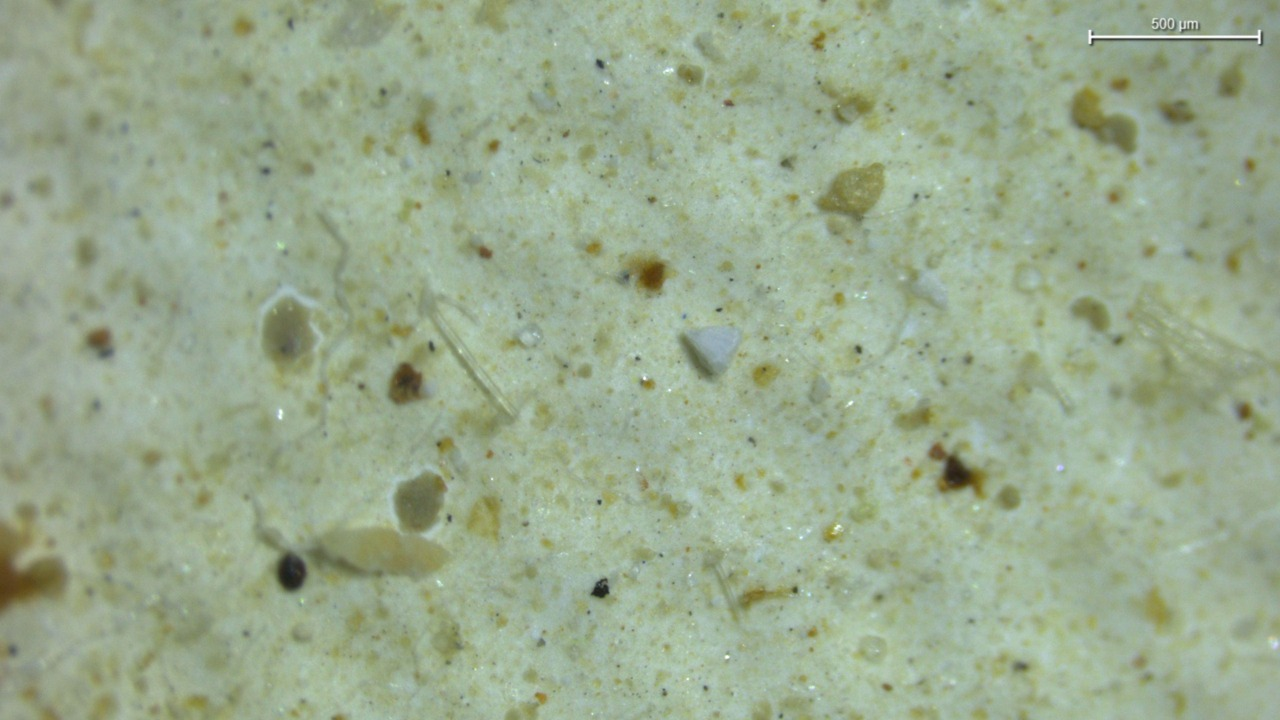microplastic_fragment: (319, 526, 448, 576), (817, 163, 885, 217), (680, 326, 741, 376)
